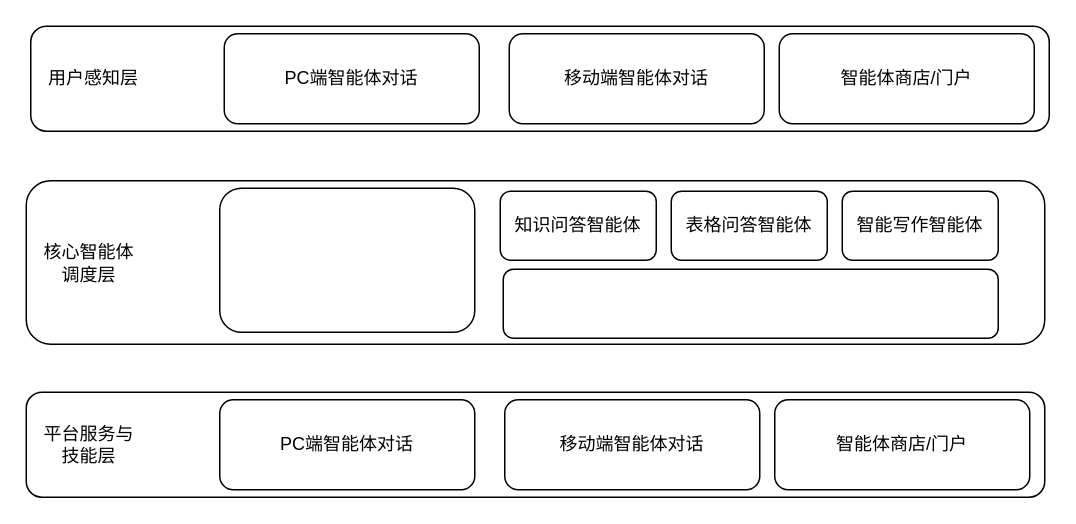
This 1076x524 diagram has some shape labels left out. The shapes that lost their labels are listed below. From the top down, each one's centre as x and y in pixels, then its label:
(x=346, y=259): 核心调度智能体
(x=750, y=303): 第三方/业务智能体
